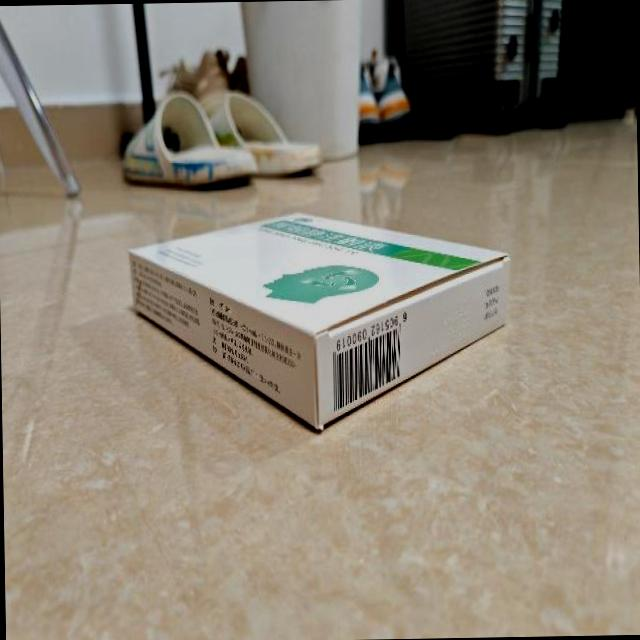box: (128, 206, 512, 437)
